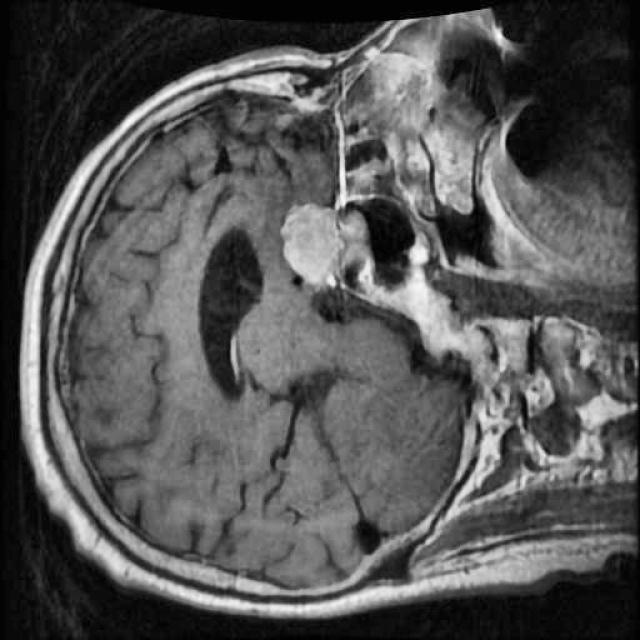Tumor: (270, 190, 389, 292)
